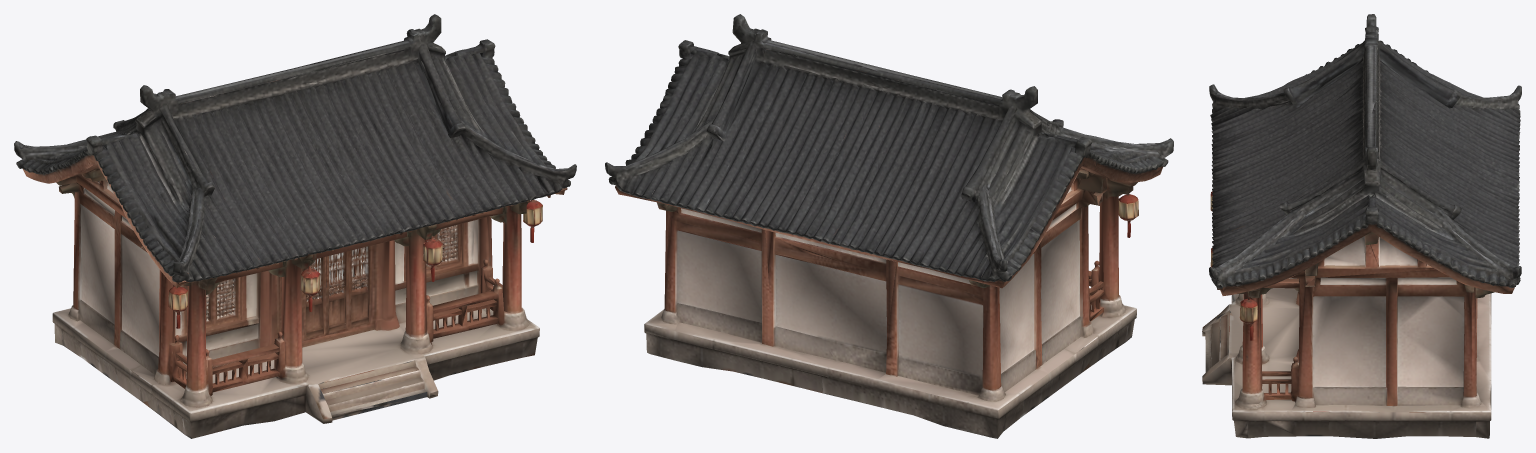
File: 18_Neighborhood_Shrine_LOD1.fbx
3 renders of one model, left to right at view 1: azimuth 30°, elevation 25°; view 2: azimuth 150°, elevation 25°; view 3: azimuth 270°, elevation 25°, orthographic. The views are drawn at different scales.
Visible parts, largest first — view 1: 18_Neighborhood_Shrine_L1; view 2: 18_Neighborhood_Shrine_L1; view 3: 18_Neighborhood_Shrine_L1.
Part boxes in pixels (x1,y1,x2,y2): 18_Neighborhood_Shrine_L1: [14, 14, 576, 438]; 18_Neighborhood_Shrine_L1: [605, 14, 1173, 438]; 18_Neighborhood_Shrine_L1: [1202, 14, 1521, 438].
Bounding box in the file's own units: 8.56 × 6 × 6.23.
